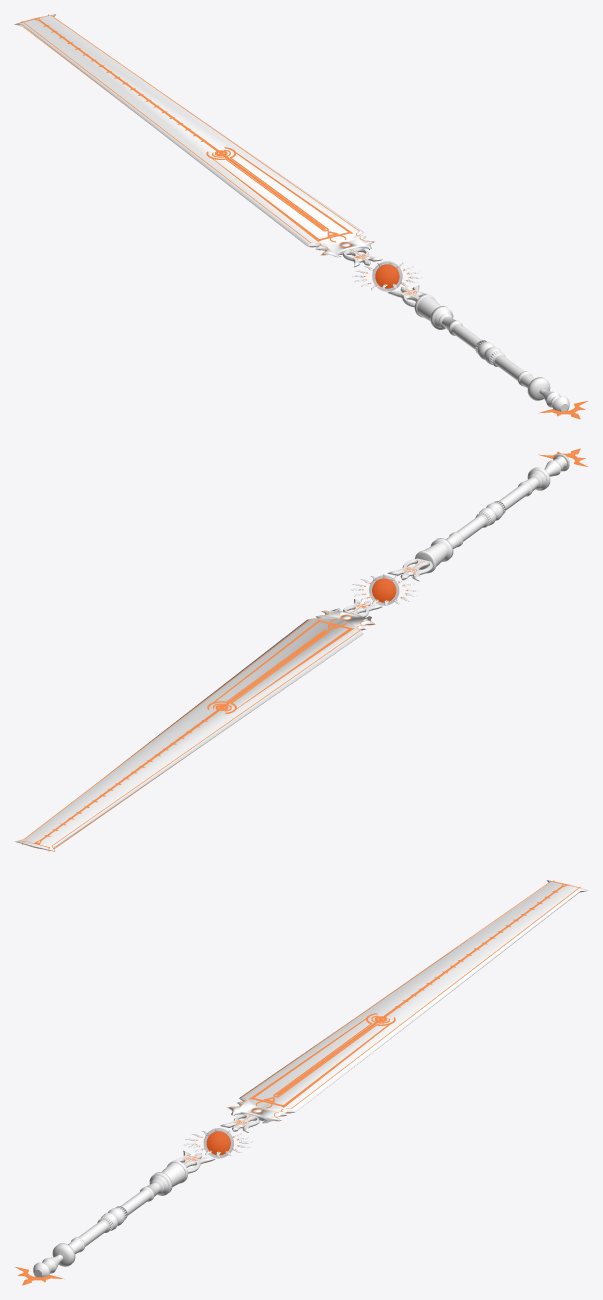
The model's file is heaven-sword.glb.
The picture shows the model from 3 angles, top to bottom: view 1: azimuth 30°, elevation 25°; view 2: azimuth 150°, elevation 25°; view 3: azimuth 330°, elevation 25°; orthographic projection.
Visible parts, largest first — view 1: Plane.001; view 2: Plane.001; view 3: Plane.001.
Part boxes in pixels (box(x1,y1,x2,y2)): Plane.001: box(14, 14, 587, 419); Plane.001: box(14, 448, 587, 851); Plane.001: box(15, 880, 588, 1285).
Bounding box in the file's own units: 0.1097 × 0.0493 × 1.76.
